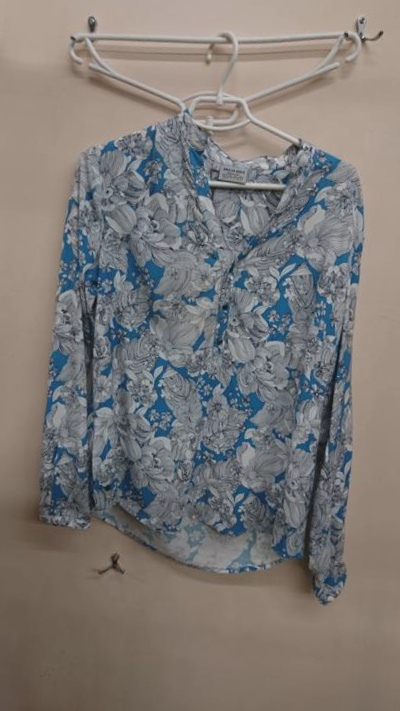Blouse: (0, 57, 400, 636), (393, 101, 400, 680), (0, 11, 3, 590)
